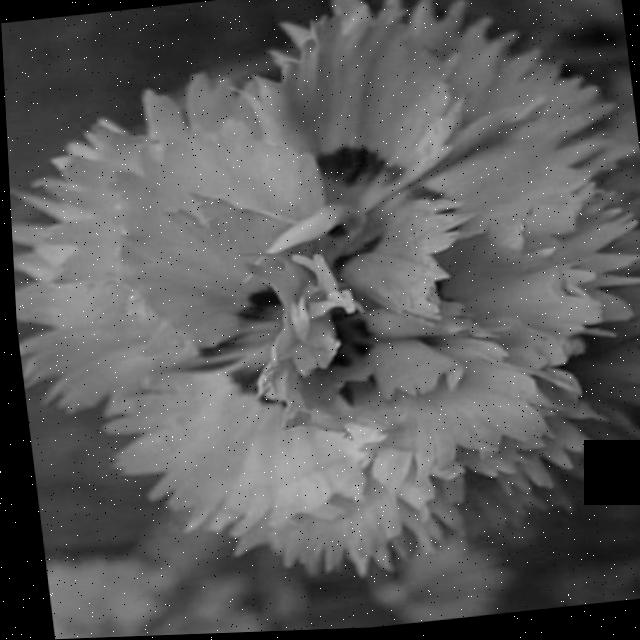carnation: (1, 0, 640, 609)
